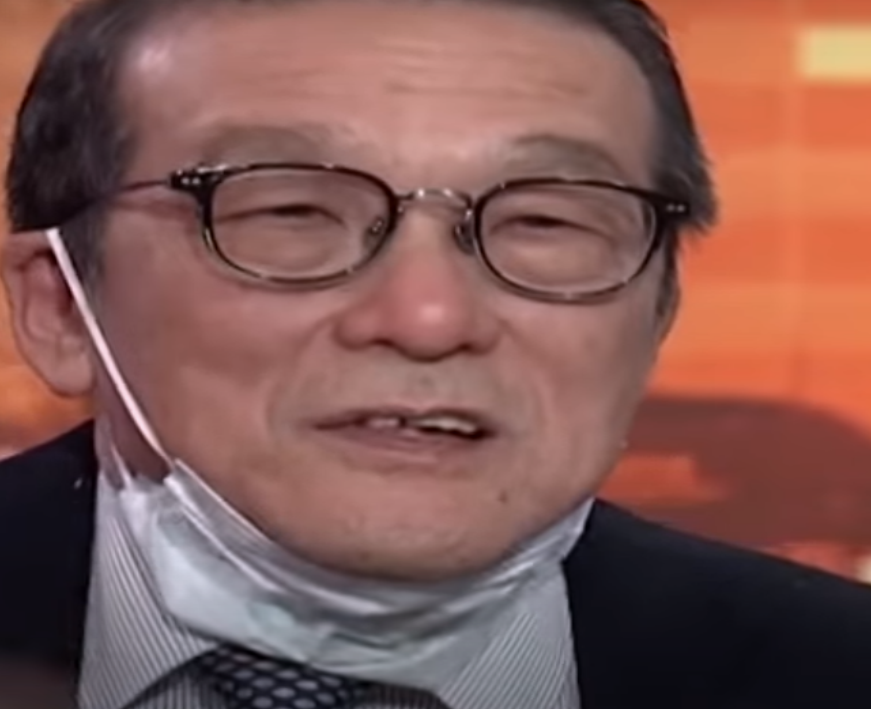mask_weared_incorrect: (1, 6, 712, 695)
